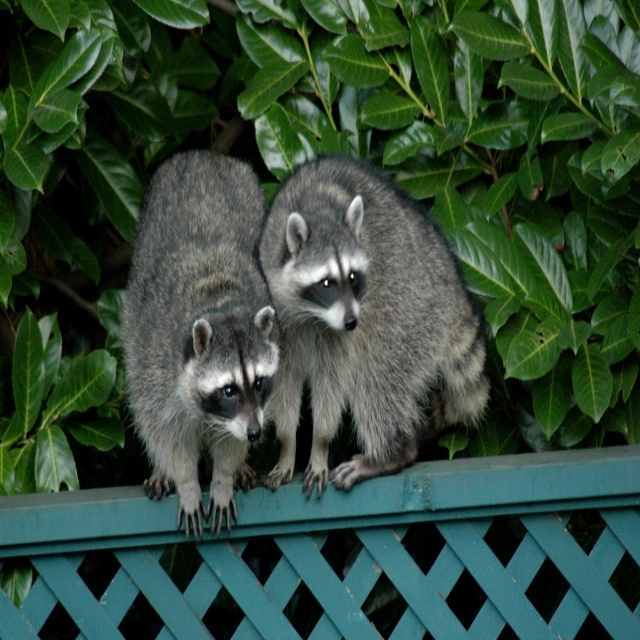Raccoon: (257, 155, 492, 501), (116, 146, 277, 542)
